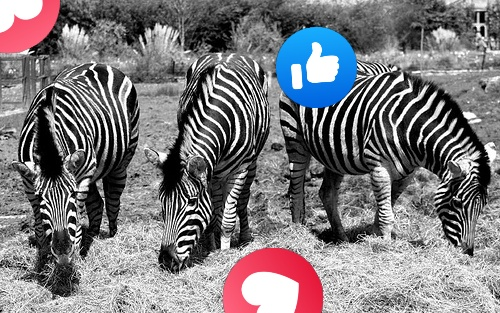like: (276, 27, 357, 108)
love: (223, 248, 323, 313), (0, 0, 60, 53)
